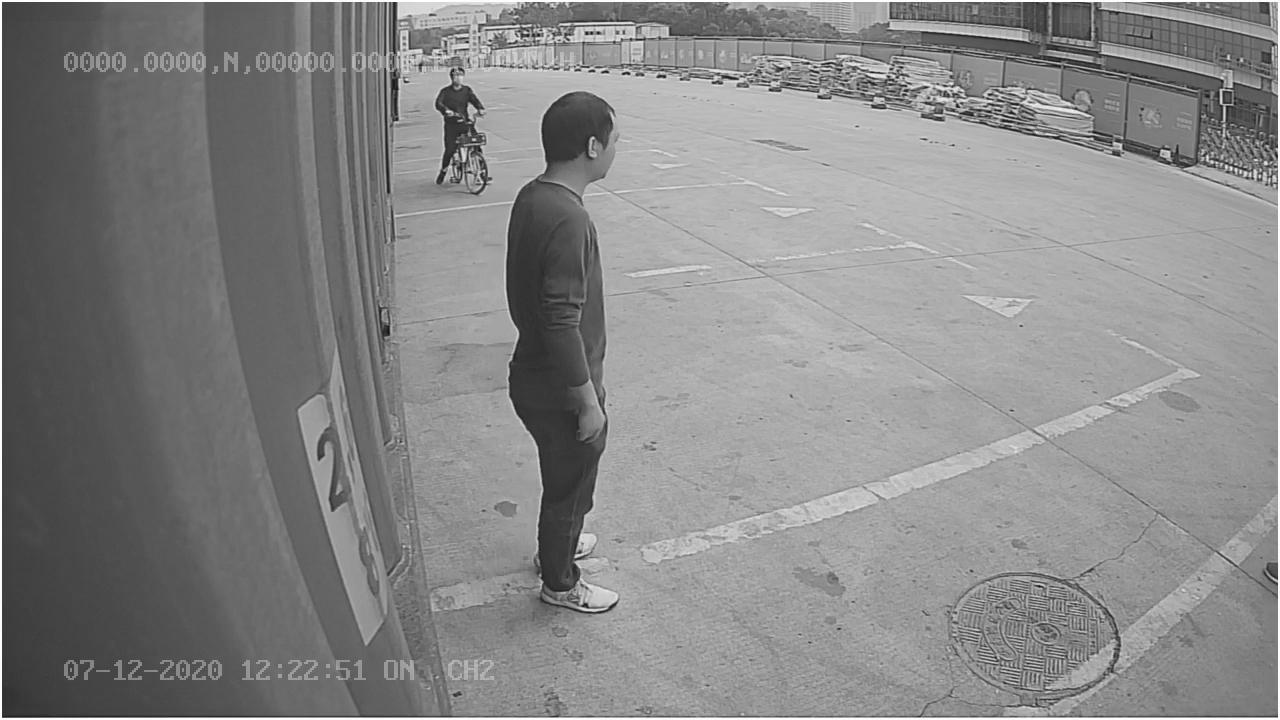person: (494, 86, 629, 621)
